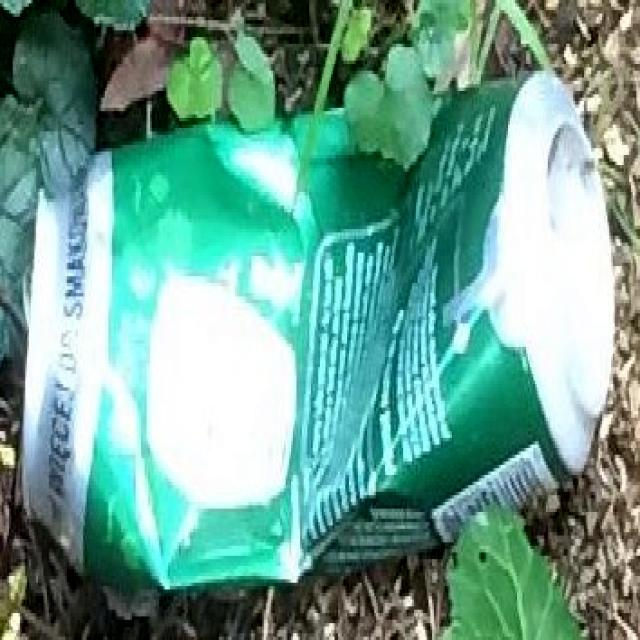Metal: (14, 57, 622, 609)
